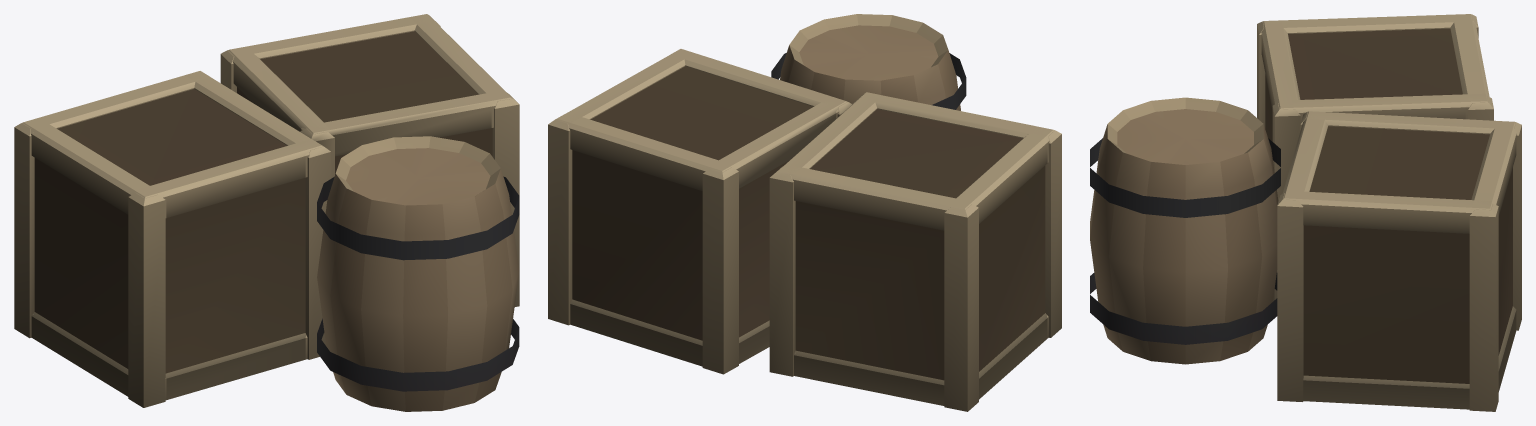
The model's file is caisses_pile.glb.
3 views of the same model, side by side, from view 1: azimuth 30°, elevation 25°; view 2: azimuth 150°, elevation 25°; view 3: azimuth 270°, elevation 25° (orthographic). The views are drawn at different scales.
Parts seen in each view (by area): view 1: caisses_pile; view 2: caisses_pile; view 3: caisses_pile.
Part boxes in pixels (left/top/right/bottom): caisses_pile: left=14, top=14, right=519, bottom=411; caisses_pile: left=548, top=14, right=1061, bottom=411; caisses_pile: left=1090, top=14, right=1521, bottom=411.
Size of the model in its own units: 2.37 by 1.1 by 2.16.
